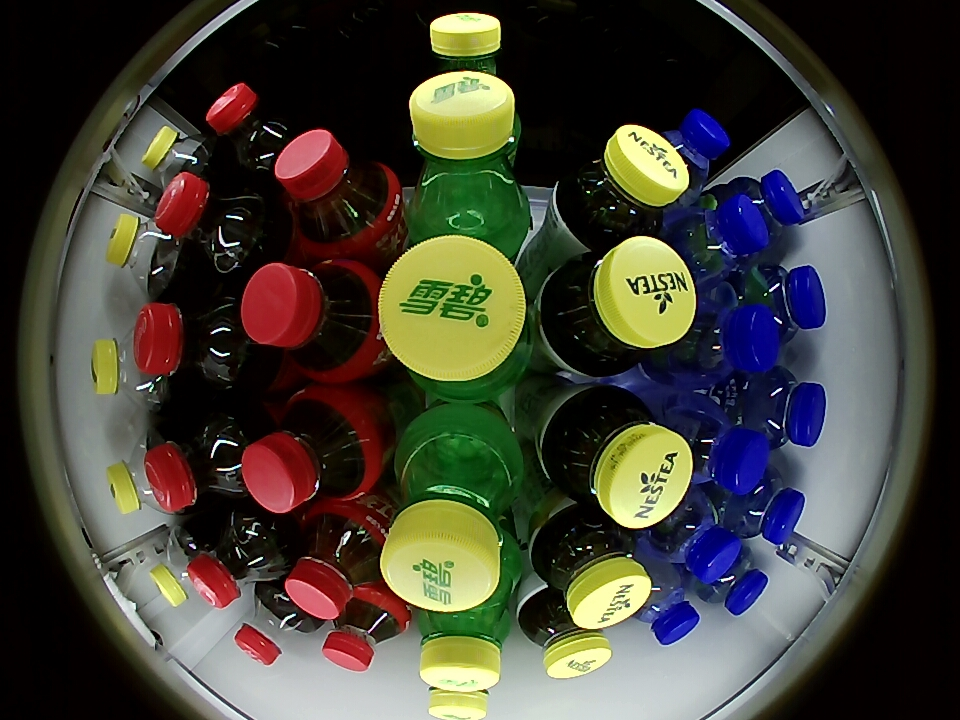aerbeisi: (665, 393, 770, 496), (666, 287, 781, 381), (663, 194, 769, 286), (641, 490, 742, 582), (649, 109, 731, 202), (627, 561, 700, 647)
baishikele: (107, 213, 183, 298), (91, 332, 169, 410), (107, 425, 170, 515), (149, 525, 207, 607), (141, 125, 214, 190)
binghongcha: (242, 384, 386, 513), (241, 257, 384, 384), (274, 128, 403, 258), (286, 502, 390, 620), (322, 587, 410, 673)
chacui: (538, 238, 697, 379), (540, 386, 694, 528), (554, 125, 688, 247), (529, 505, 650, 628), (517, 585, 612, 679)
kele-b: (144, 407, 259, 511), (154, 173, 271, 275), (133, 295, 252, 389), (187, 510, 287, 608), (207, 83, 301, 176), (234, 580, 317, 666)
maidong: (741, 368, 827, 450), (739, 263, 827, 341), (720, 469, 806, 545), (726, 170, 807, 246), (697, 547, 769, 615)
xuebi-b: (381, 425, 522, 613), (379, 237, 531, 396), (408, 72, 528, 237), (417, 595, 510, 691), (429, 13, 503, 76), (427, 687, 491, 720)
